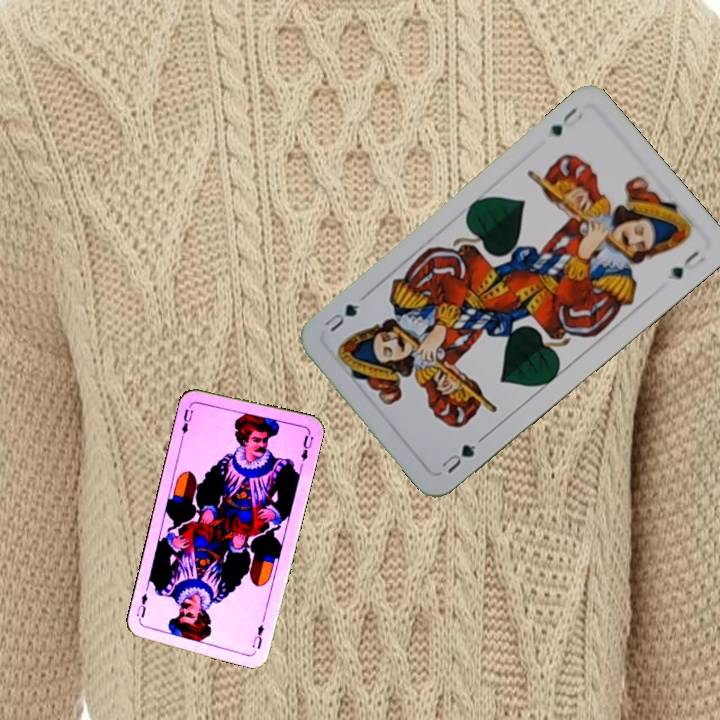EU: (177, 401, 196, 436), (248, 620, 267, 652)
GU: (437, 439, 479, 477), (545, 102, 586, 139)
